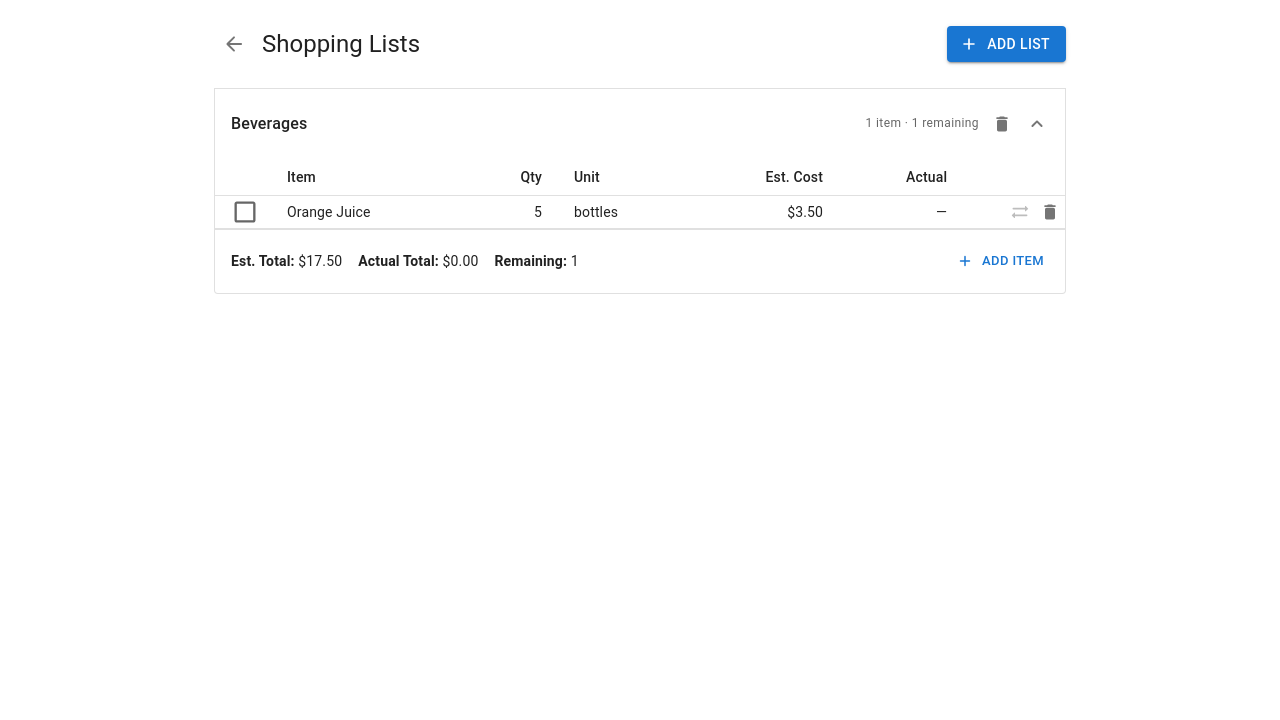
Scenario: ShoppingPage › opens add list dialog
The width and height of the screenshot is (1280, 720).
Check: the text "Beverages" is shown, box [231,112,307,136]
Step 1. Click the button "Add List" → (1007,44), box [947,26,1066,62]
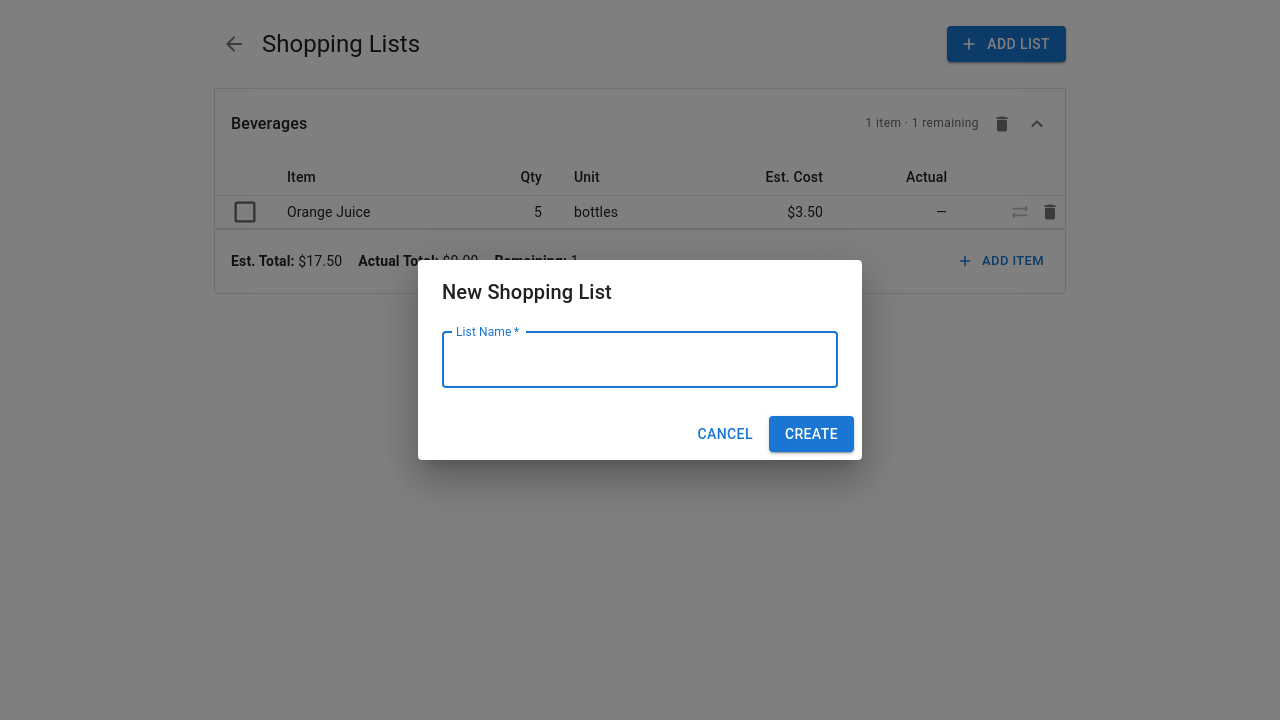
Check: the dialog is shown, box [418,260,862,460]
Check: the field labelled "List Name *" is shown, box [442,332,838,388]
